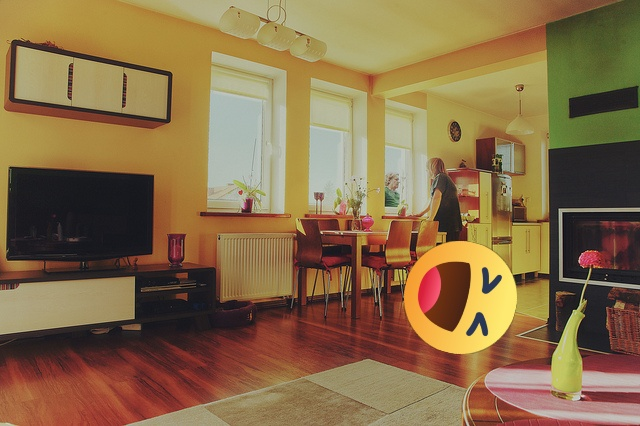haha: (404, 241, 517, 354)
